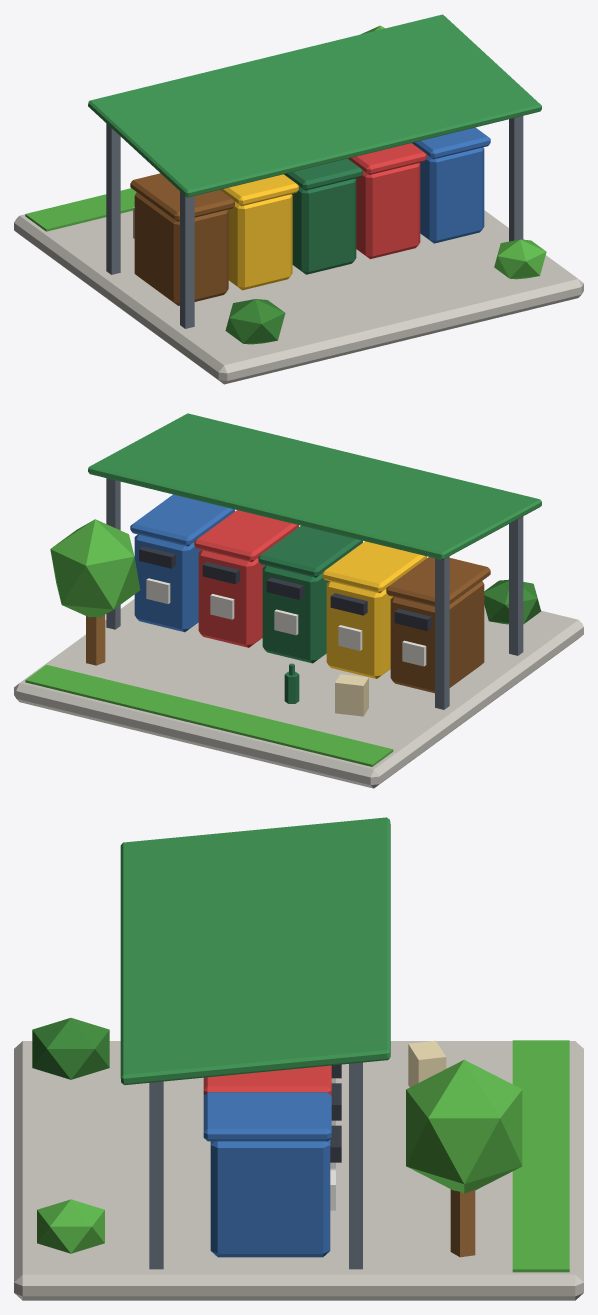
The model's file is recycling_point.glb.
3 views of the same model, one above another, from view 1: azimuth 30°, elevation 25°; view 2: azimuth 150°, elevation 25°; view 3: azimuth 270°, elevation 25° (orthographic). The views are drawn at different scales.
Parts seen in each view (by area): view 1: corpo; view 2: corpo; view 3: corpo.
Boxes of the visible parts, x1,y1,x2,y2 form: corpo: [14, 14, 583, 384]; corpo: [14, 413, 583, 788]; corpo: [14, 817, 583, 1300].
Size of the model in its own units: 2 by 0.9684 by 2.
